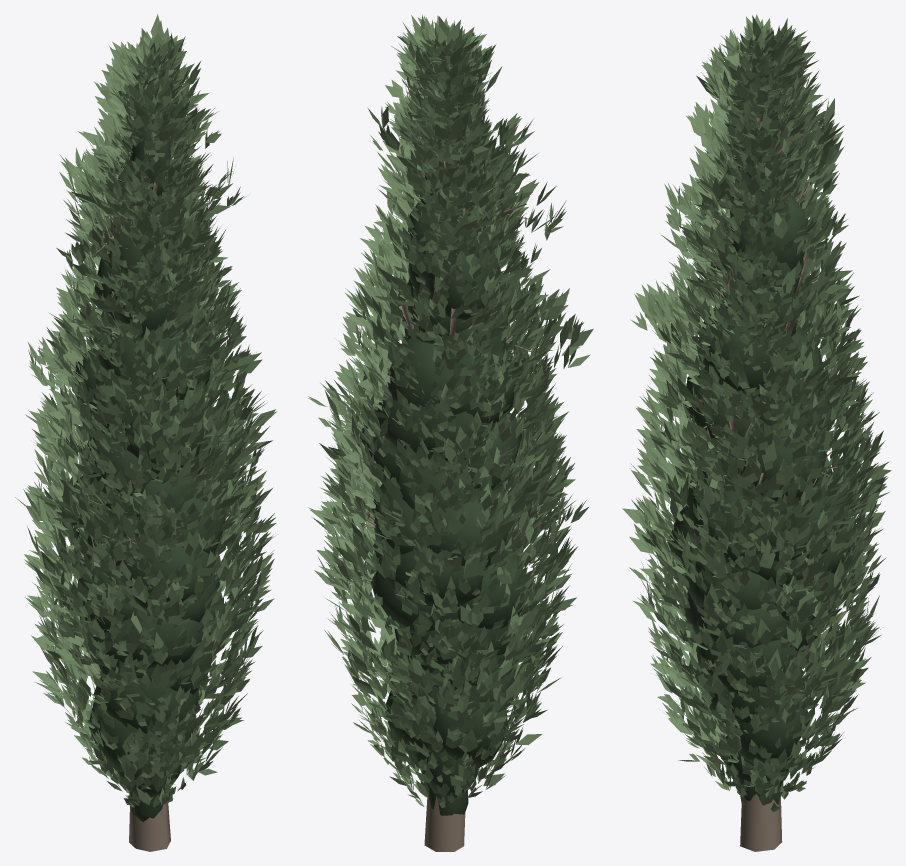
Rendered from cypress.glb.
3 renders of one model, left to right at view 1: azimuth 30°, elevation 25°; view 2: azimuth 150°, elevation 25°; view 3: azimuth 270°, elevation 25°, orthographic. The views are drawn at different scales.
Visible parts, largest first — view 1: cypress_sprays, cypress_core, cypress_wood; view 2: cypress_sprays, cypress_core, cypress_wood; view 3: cypress_sprays, cypress_core, cypress_wood.
Boxes of the visible parts, x1,y1,x2,y2 form: cypress_sprays: [15, 14, 276, 807]; cypress_core: [62, 117, 226, 821]; cypress_wood: [57, 142, 226, 851]; cypress_sprays: [308, 14, 593, 807]; cypress_core: [359, 111, 525, 815]; cypress_wood: [346, 135, 552, 851]; cypress_sprays: [622, 14, 891, 811]; cypress_core: [667, 101, 850, 804]; cypress_wood: [666, 100, 838, 851].
Size of the model in its own units: 2.22 by 7.33 by 2.17.
